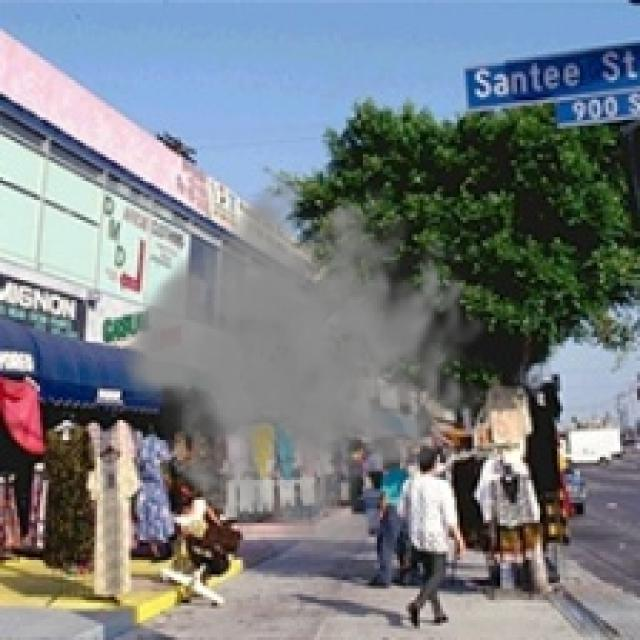smoke: (117, 163, 489, 566)
